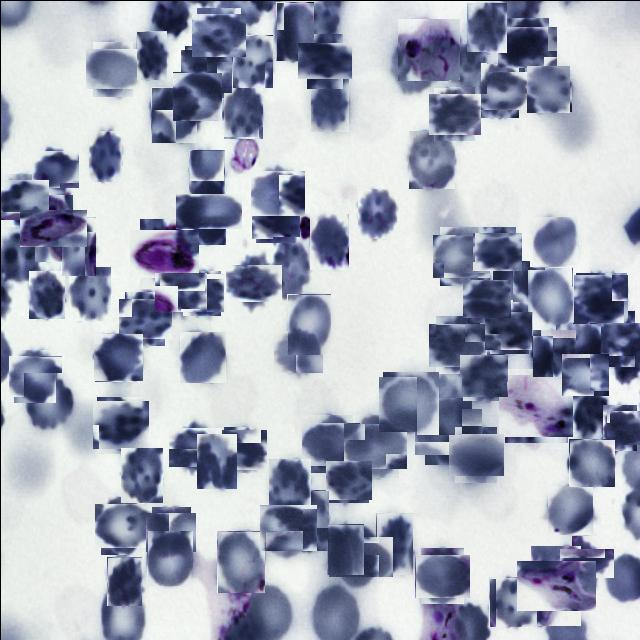difficult: (134, 224, 192, 282)
red blood cell: (380, 373, 440, 433), (419, 402, 476, 459), (216, 530, 264, 592), (348, 418, 402, 472), (574, 272, 626, 326), (23, 372, 72, 429), (94, 398, 146, 451), (334, 530, 387, 582), (261, 502, 313, 554), (286, 293, 330, 354), (408, 130, 454, 188), (526, 266, 572, 324), (416, 376, 461, 434), (435, 230, 486, 281), (182, 185, 233, 236), (432, 318, 483, 369), (96, 500, 148, 550), (304, 418, 356, 468), (146, 529, 192, 585), (150, 86, 196, 142), (502, 21, 552, 72), (416, 550, 466, 600), (252, 168, 302, 218), (450, 430, 500, 479), (172, 71, 221, 120), (488, 576, 536, 626), (194, 9, 242, 58), (179, 331, 225, 382), (290, 489, 328, 550), (120, 448, 162, 503), (268, 458, 310, 513), (120, 294, 168, 342), (229, 258, 277, 306), (88, 44, 136, 92), (546, 486, 594, 534), (94, 332, 142, 380), (182, 47, 230, 95), (375, 512, 412, 574), (308, 212, 348, 269), (68, 266, 110, 320), (275, 1, 313, 60), (272, 236, 308, 298), (488, 260, 529, 314), (11, 352, 58, 399), (430, 90, 477, 137), (568, 438, 614, 486), (196, 433, 236, 488), (231, 34, 272, 87), (222, 84, 262, 138), (532, 216, 577, 264), (555, 322, 600, 370), (531, 328, 575, 377), (274, 328, 320, 374), (476, 67, 522, 113), (157, 268, 203, 314), (460, 352, 506, 398), (171, 424, 218, 469), (188, 149, 224, 207), (0, 176, 45, 222), (525, 66, 570, 112), (60, 216, 95, 275), (148, 508, 192, 554), (302, 38, 346, 84), (594, 316, 640, 360), (562, 351, 606, 397), (310, 78, 348, 131), (466, 2, 506, 52), (253, 196, 298, 240), (357, 188, 396, 238), (448, 44, 487, 94), (474, 229, 518, 273), (486, 308, 530, 352), (465, 276, 508, 320), (326, 523, 363, 574), (326, 458, 369, 500), (222, 428, 264, 470), (34, 148, 76, 190), (564, 542, 606, 584), (28, 270, 64, 318), (180, 272, 222, 313), (106, 556, 141, 605), (88, 130, 121, 181), (572, 390, 606, 438), (599, 407, 639, 447), (135, 30, 166, 79)
trophozoite: (502, 371, 570, 439), (522, 552, 588, 618), (397, 18, 459, 80), (27, 202, 79, 254)
